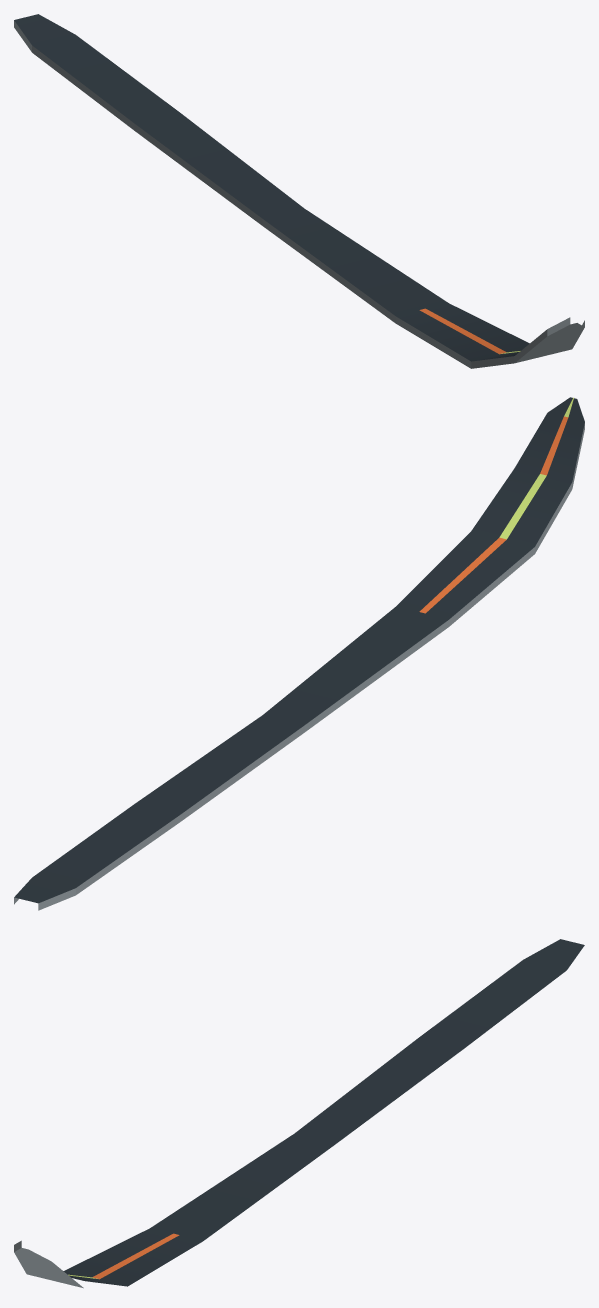
File: ski.glb
The picture shows the model from 3 angles, top to bottom: view 1: azimuth 30°, elevation 25°; view 2: azimuth 150°, elevation 25°; view 3: azimuth 330°, elevation 25°; orthographic projection.
Visible parts, largest first — view 1: Ski; view 2: Ski; view 3: Ski.
Part boxes in pixels (x1,y1,x2,y2): Ski: (14,14,584,368); Ski: (14,397,584,910); Ski: (14,939,584,1288).
Size of the model in its own units: 0.146 by 0.257 by 2.17.
